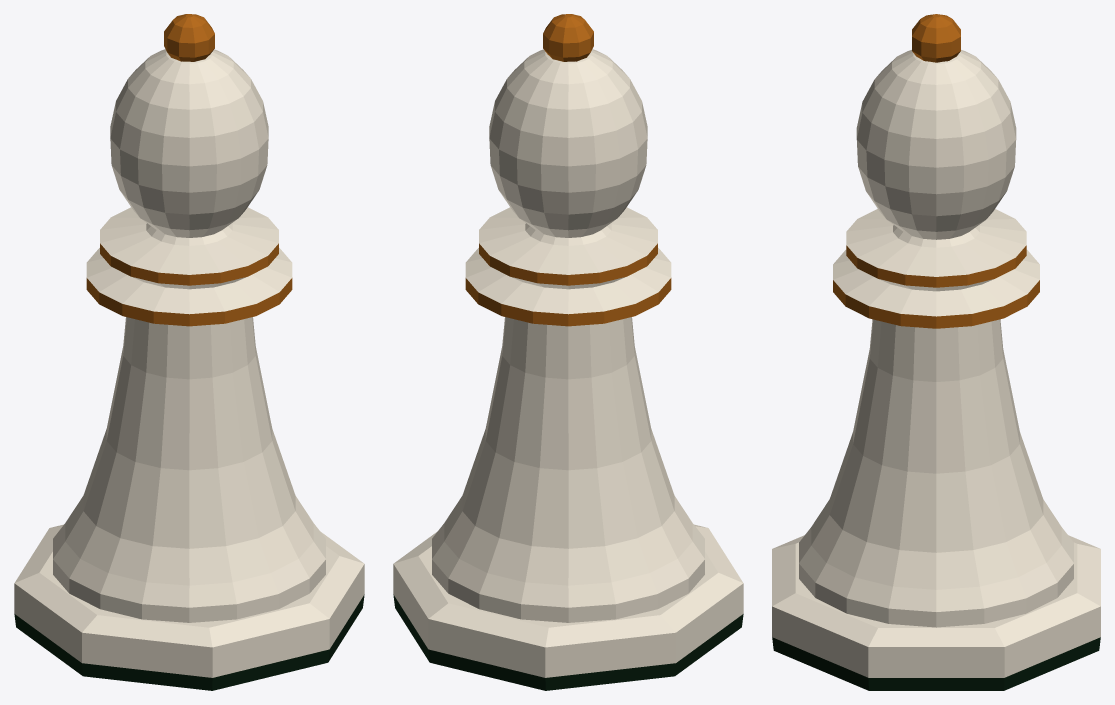
File: cozy_chess_white_bishop.obj
The picture shows the model from 3 angles, left to right: view 1: azimuth 30°, elevation 25°; view 2: azimuth 150°, elevation 25°; view 3: azimuth 270°, elevation 25°; orthographic projection.
Parts seen in each view (by area): view 1: Chess_White_Bishop_Mesh; view 2: Chess_White_Bishop_Mesh; view 3: Chess_White_Bishop_Mesh.
Part boxes in pixels (left/top/right/bottom): Chess_White_Bishop_Mesh: left=14, top=14, right=364, bottom=690; Chess_White_Bishop_Mesh: left=393, top=14, right=743, bottom=690; Chess_White_Bishop_Mesh: left=772, top=14, right=1100, bottom=690.
Size of the model in its own units: 0.0407 by 0.0829 by 0.0407.
